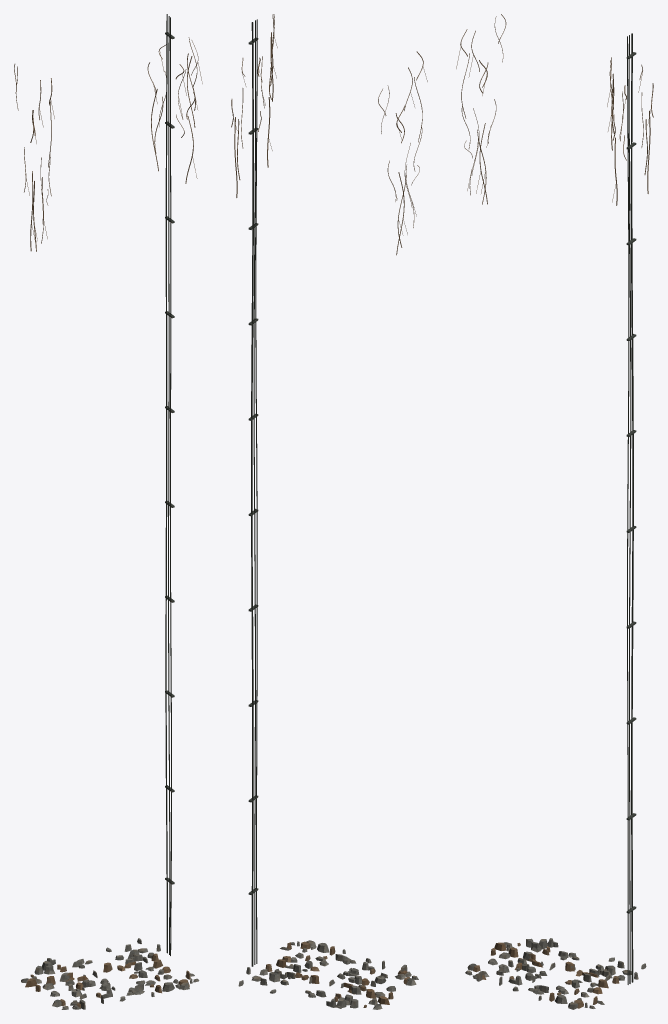
Rendered from SHAFT_Details.fbx.
The picture shows the model from 3 angles, left to right: view 1: azimuth 30°, elevation 25°; view 2: azimuth 150°, elevation 25°; view 3: azimuth 330°, elevation 25°; orthographic projection.
Parts seen in each view (by area): view 1: SHAFT_Details; view 2: SHAFT_Details; view 3: SHAFT_Details.
Boxes of the visible parts, bbox=[...] form: SHAFT_Details: bbox=[14, 14, 202, 1009]; SHAFT_Details: bbox=[231, 14, 427, 1009]; SHAFT_Details: bbox=[456, 14, 653, 1009].
Bounding box in the file's own units: 5.75 × 34.74 × 4.14.
5 materials, 2 textured.
